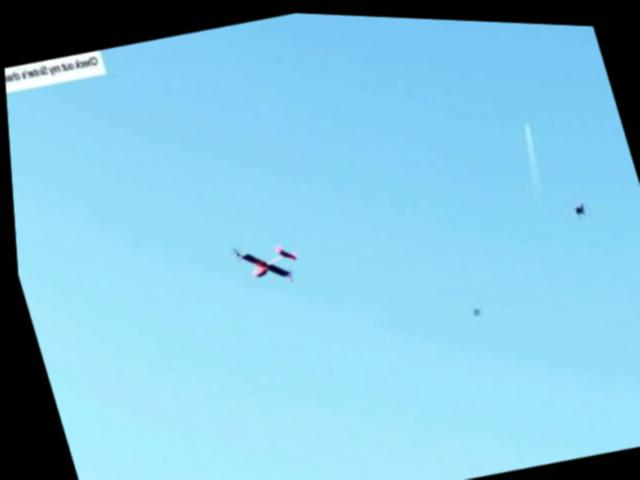uav: (213, 219, 314, 297)
